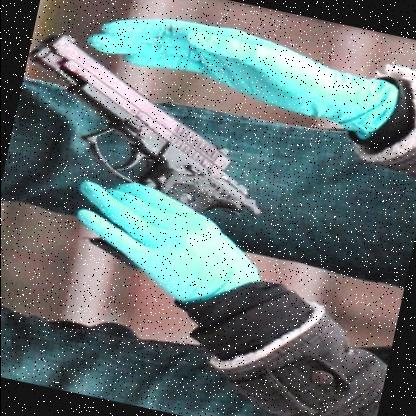rifle: (0, 19, 292, 286)
